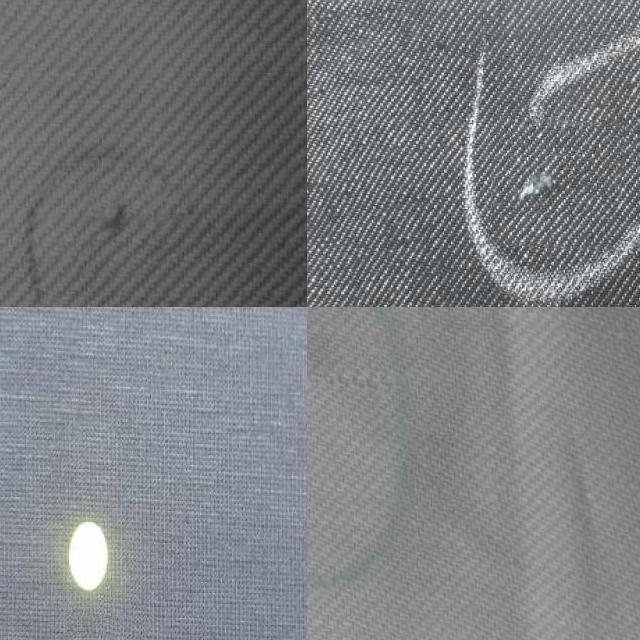other: (62, 615, 142, 640)
stains: (490, 118, 624, 250), (307, 332, 380, 448), (79, 180, 167, 276)
